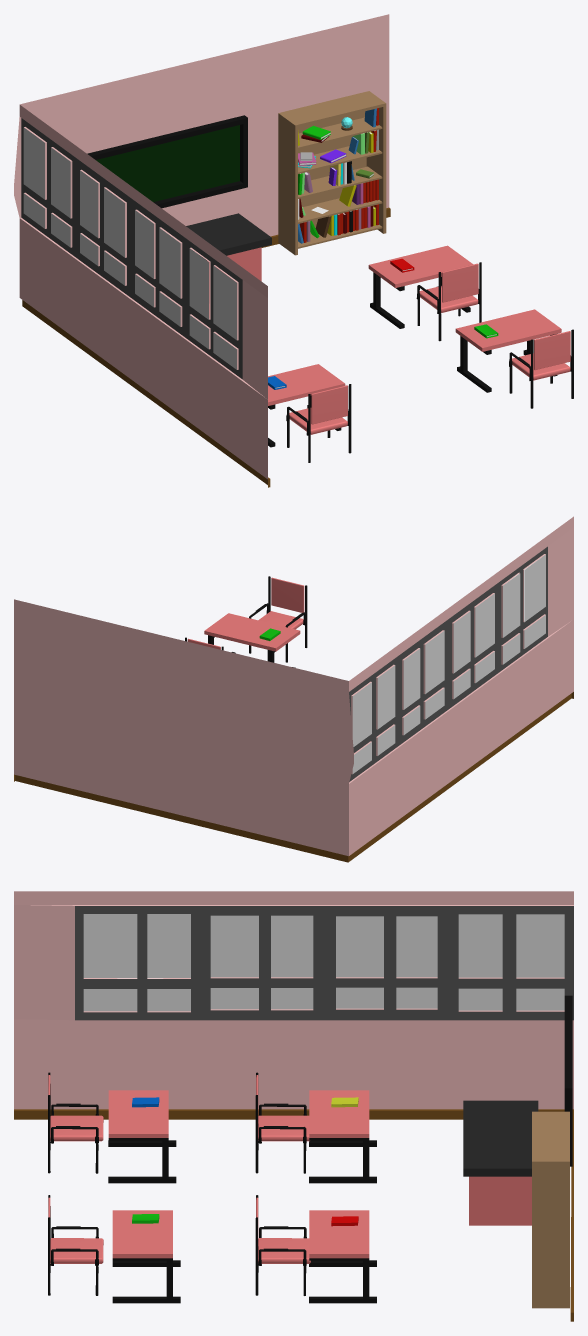
File: Classroom.fbx
3 renders of one model, top to bottom at view 1: azimuth 30°, elevation 25°; view 2: azimuth 150°, elevation 25°; view 3: azimuth 270°, elevation 25°, orthographic. The views are drawn at different scales.
Visible parts, largest first — view 1: DESK2, Shelf_Book, Board_Chalk, DESK2.005, DESK2.002, Desk_Teacher, CHAİR2.002, CHAİR2.003, CHAİR2, DESK2.007; view 2: DESK2, DESK2.005, CHAİR2.003; view 3: DESK2, Desk_Teacher, Shelf_Book, DESK2.005, DESK2.007, DESK2.003, DESK2.002, CHAİR2.001, CHAİR2.002, CHAİR2, CHAİR2.003, Board_Chalk.
Part boxes in pixels (x1,y1,x2,y2): DESK2: [14, 14, 390, 487]; Shelf_Book: [278, 91, 386, 255]; Board_Chalk: [87, 115, 247, 208]; DESK2.005: [455, 309, 561, 392]; DESK2.002: [368, 245, 473, 328]; Desk_Teacher: [186, 213, 271, 303]; CHAİR2.002: [286, 384, 351, 462]; CHAİR2.003: [509, 329, 573, 408]; CHAİR2: [416, 262, 481, 341]; DESK2.007: [268, 364, 345, 447]; DESK2: [14, 516, 573, 862]; DESK2.005: [204, 613, 300, 667]; CHAİR2.003: [249, 576, 307, 662]; DESK2: [14, 891, 573, 1321]; Desk_Teacher: [463, 1100, 538, 1225]; Shelf_Book: [532, 1111, 569, 1308]; DESK2.005: [112, 1210, 180, 1303]; DESK2.007: [108, 1090, 176, 1183]; DESK2.003: [309, 1090, 376, 1183]; DESK2.002: [309, 1210, 376, 1303]; CHAİR2.001: [255, 1072, 309, 1173]; CHAİR2.002: [48, 1072, 103, 1173]; CHAİR2: [255, 1195, 310, 1295]; CHAİR2.003: [48, 1195, 103, 1295]; Board_Chalk: [564, 995, 572, 1166].
Size of the model in its own units: 37.44 by 19.34 by 42.93.
